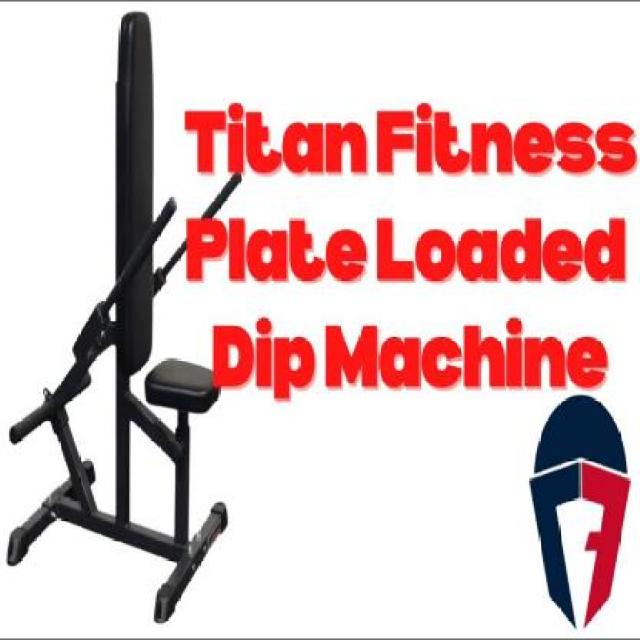seated dip machine: (6, 12, 243, 625)
